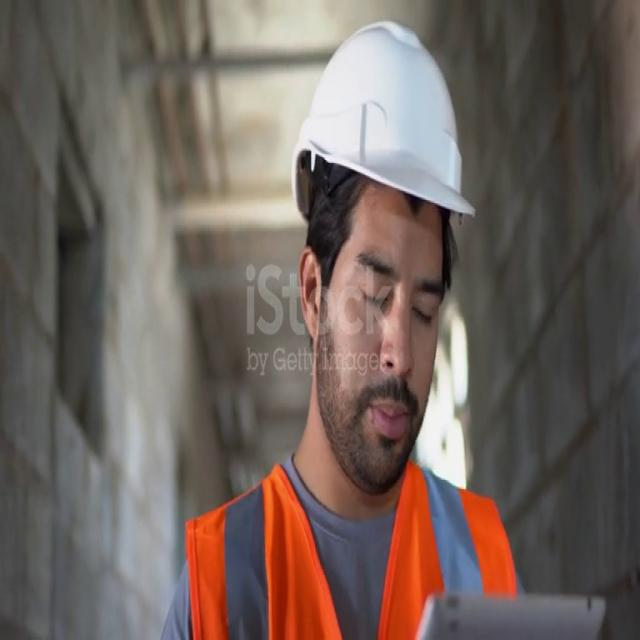capacete: (279, 12, 492, 278)
